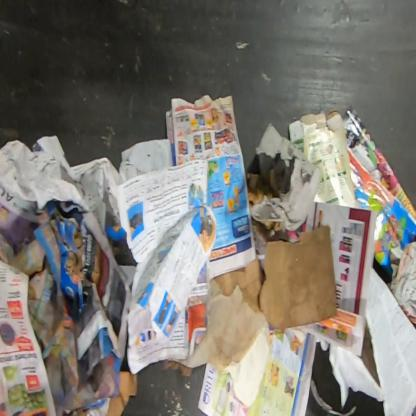cardboard: (259, 225, 337, 329), (289, 110, 359, 209), (213, 257, 263, 313), (106, 370, 139, 415), (247, 169, 279, 207), (260, 221, 282, 232)
